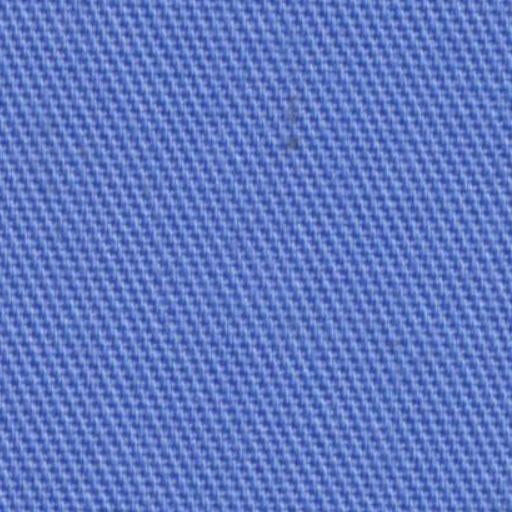WuZi: (265, 88, 332, 166)
